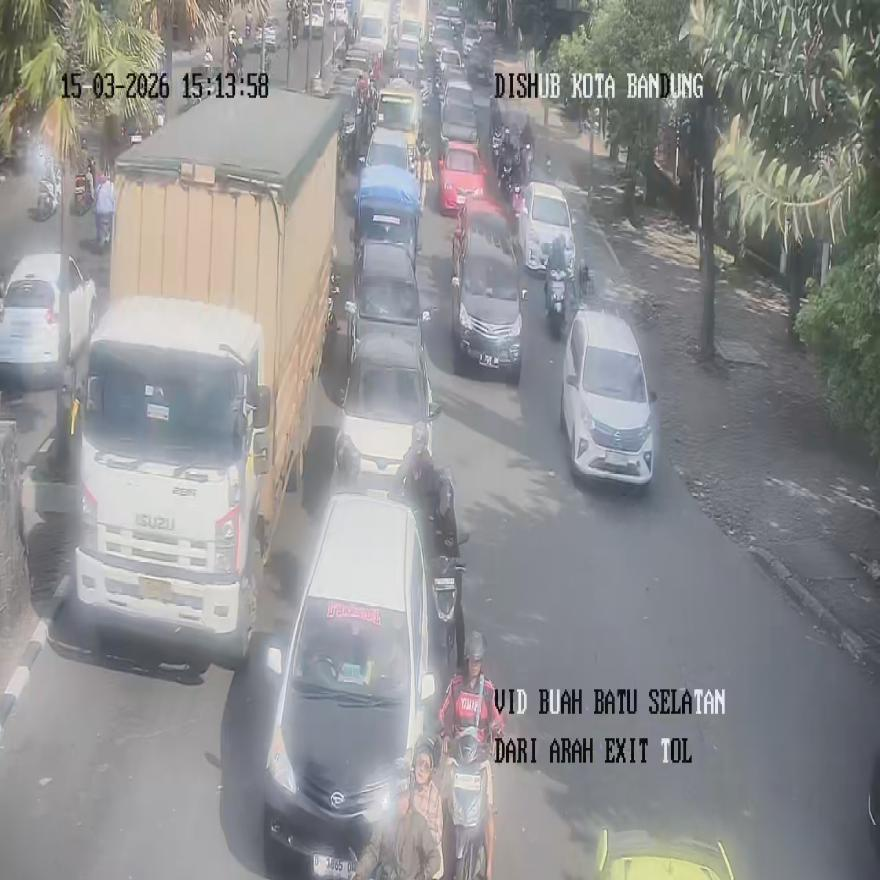Mobil: (262, 491, 434, 878), (336, 328, 442, 492), (563, 306, 658, 485), (451, 197, 527, 380), (0, 250, 98, 389)
Motor: (443, 726, 493, 879), (544, 264, 568, 337), (72, 169, 94, 215)
Truk menengah: (74, 93, 337, 664)
